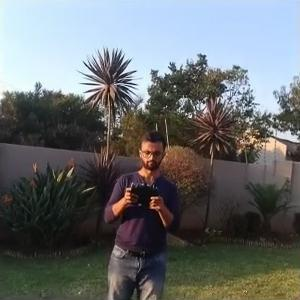follow: (95, 121, 183, 298)
